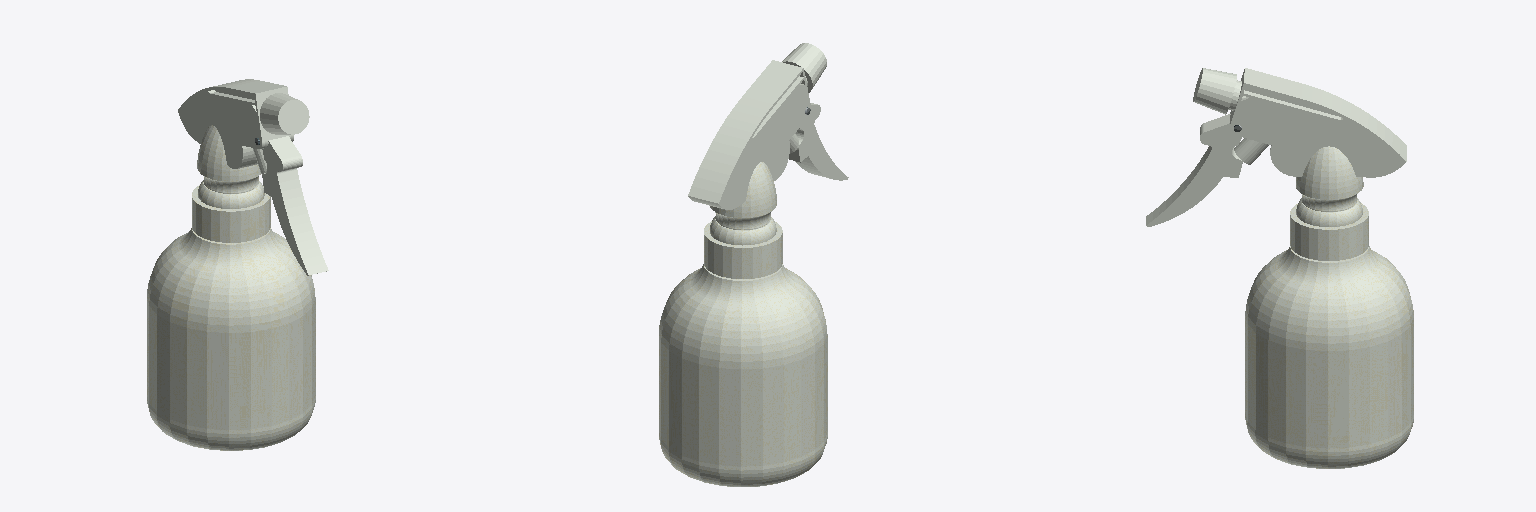
3 renders of one model, left to right at view 1: azimuth 30°, elevation 25°; view 2: azimuth 150°, elevation 25°; view 3: azimuth 270°, elevation 25°, orthographic.
Visible parts, largest first — view 1: #ID41; view 2: #ID41; view 3: #ID41.
Part boxes in pixels (x1,y1,x2,y2): #ID41: (147,79,328,450); #ID41: (659,43,848,486); #ID41: (1146,68,1413,468).
Size of the model in its own units: 0.6273 by 1.51 by 0.9952.
23 materials, 1 textured.